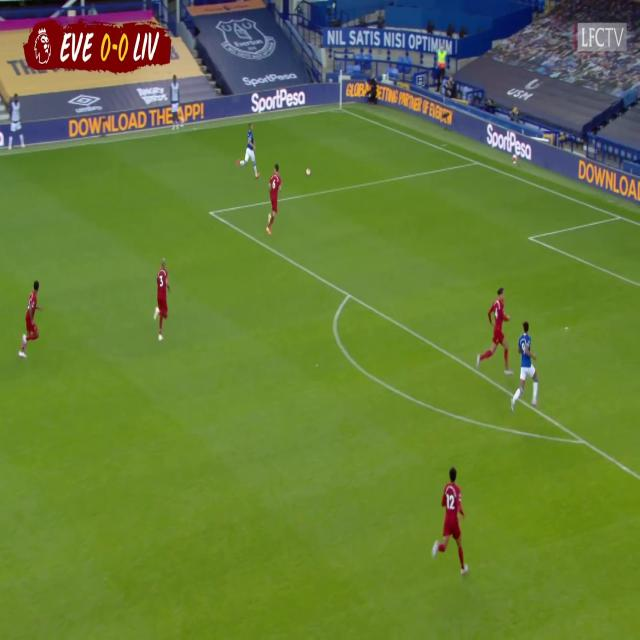ball: (306, 169, 312, 176)
team1: (432, 468, 469, 578), (477, 284, 513, 372), (19, 280, 42, 358), (155, 257, 170, 342), (266, 162, 283, 234)
team2: (509, 322, 540, 414), (237, 125, 260, 177)
